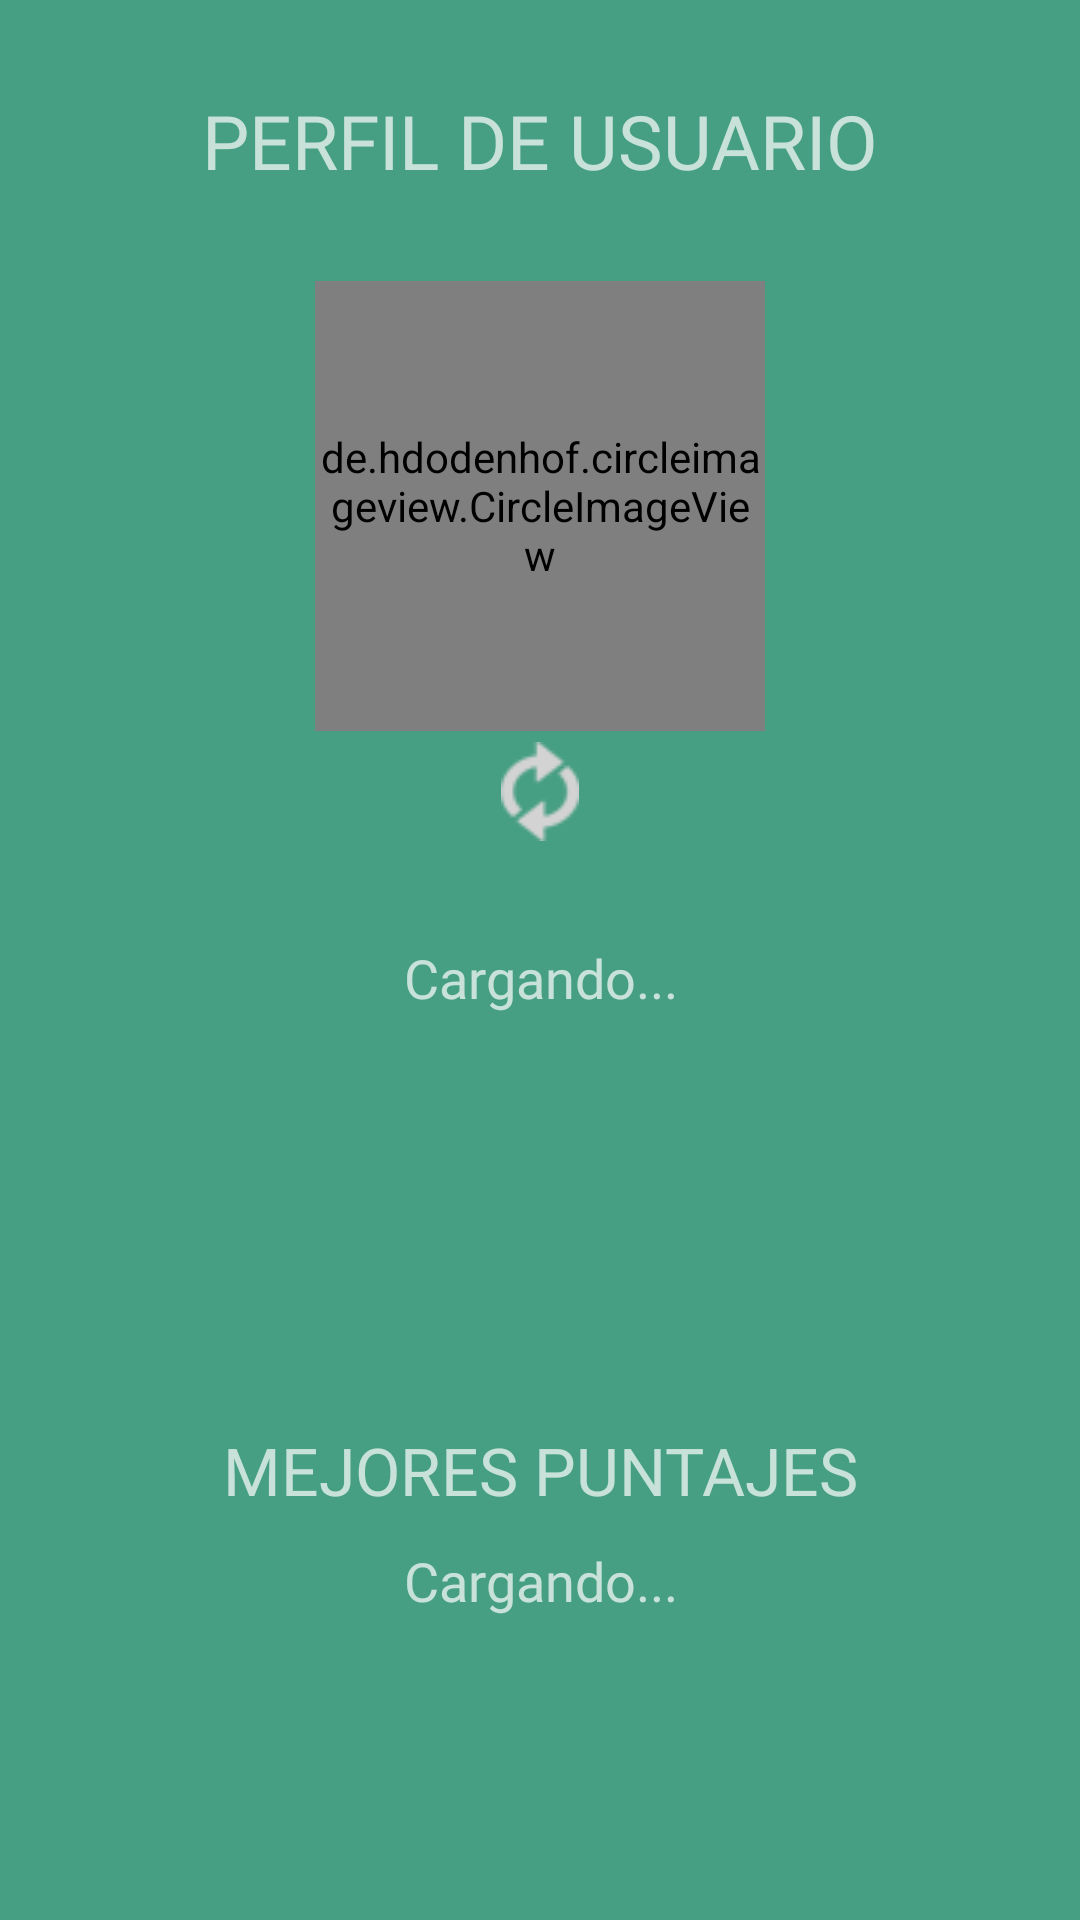

Icon bounding boxes for this 1080w x 1920h phone screenshot, format (x1, y1, x2, y2):
change: (501, 742, 579, 841)
